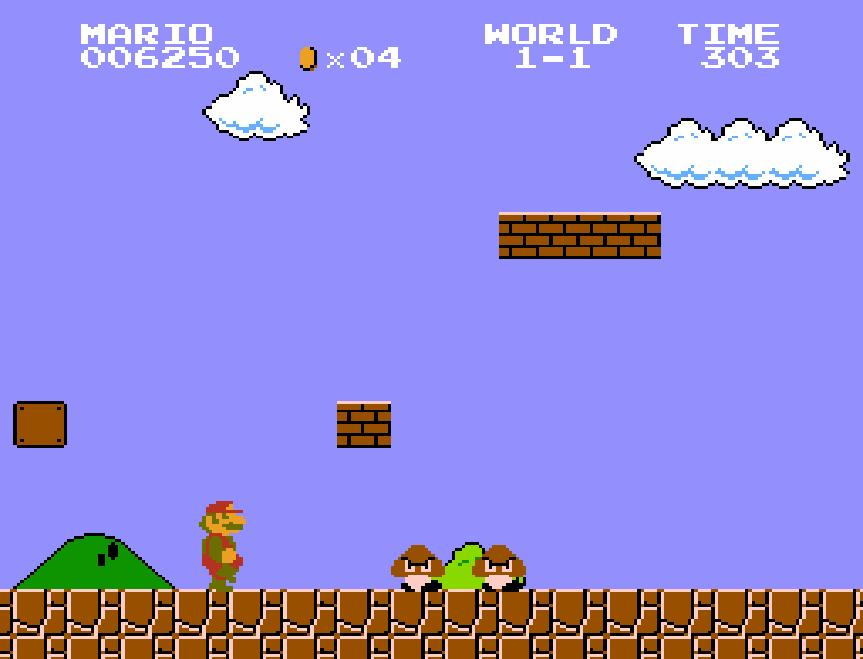big_mario: (192, 496, 250, 594)
